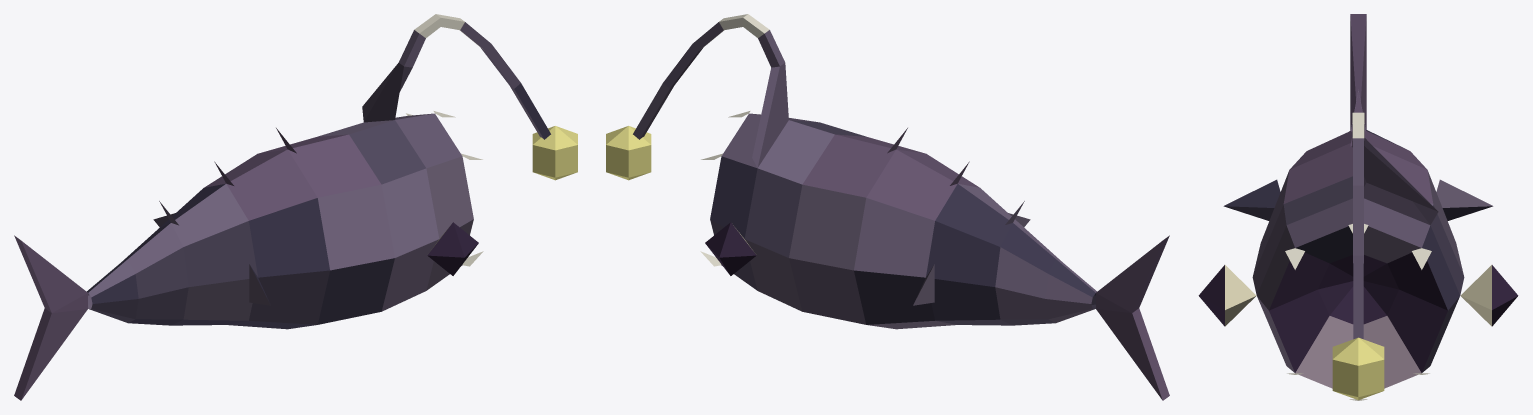
Rendered from Anglerking.glb.
3 renders of one model, left to right at view 1: azimuth 30°, elevation 25°; view 2: azimuth 150°, elevation 25°; view 3: azimuth 270°, elevation 25°, orthographic. The views are drawn at different scales.
Visible parts, largest first — view 1: Anglerking; view 2: Anglerking; view 3: Anglerking.
Boxes of the visible parts, x1,y1,x2,y2 form: Anglerking: (14, 14, 577, 400); Anglerking: (606, 14, 1169, 400); Anglerking: (1198, 14, 1518, 400).
Size of the model in its own units: 1.83 by 0.8715 by 0.786.
